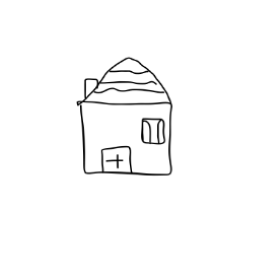chimney: (79, 74, 103, 103)
door: (98, 143, 136, 177)
open_window: (138, 114, 168, 148)
roof: (70, 54, 177, 112)
small_house: (0, 0, 260, 260)
wall: (77, 95, 175, 179)
